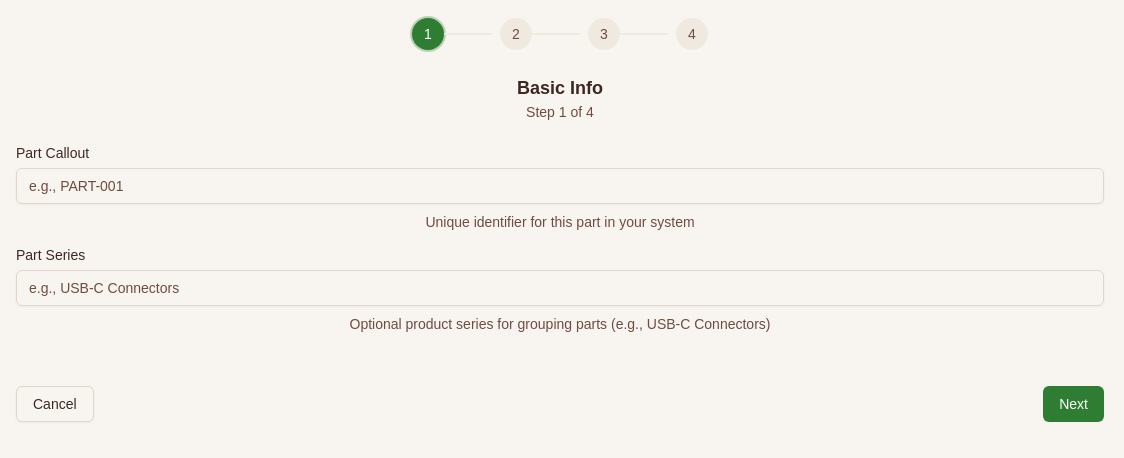
Test: PartEntryWizard › step 1 validation › prevents advancing without Part Callout
Click the button "Next" at (1074, 404), box [1043,386,1104,422]
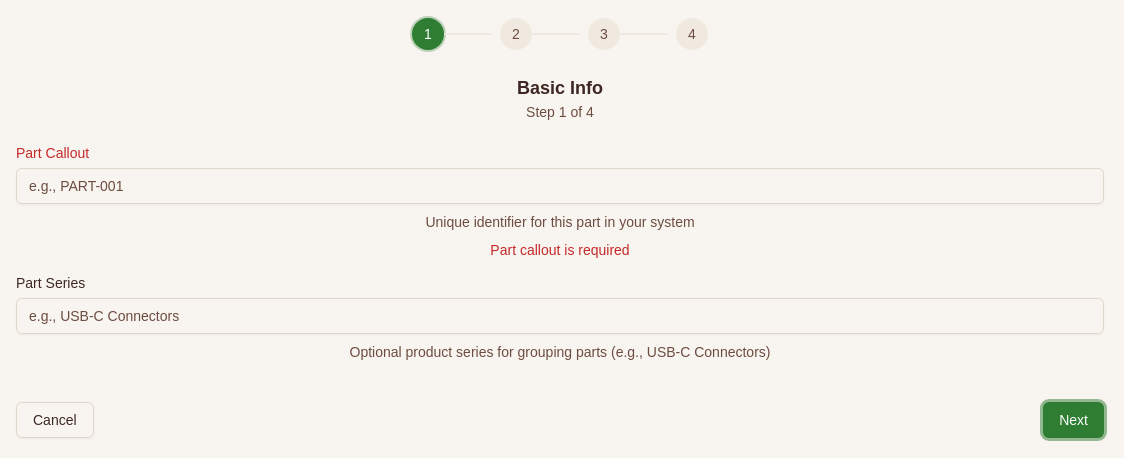
Expected: the text "Step 1 of 4" is shown, [526,104,594,120]
Expected: the text "Part callout is required" is shown, [490,242,630,258]
